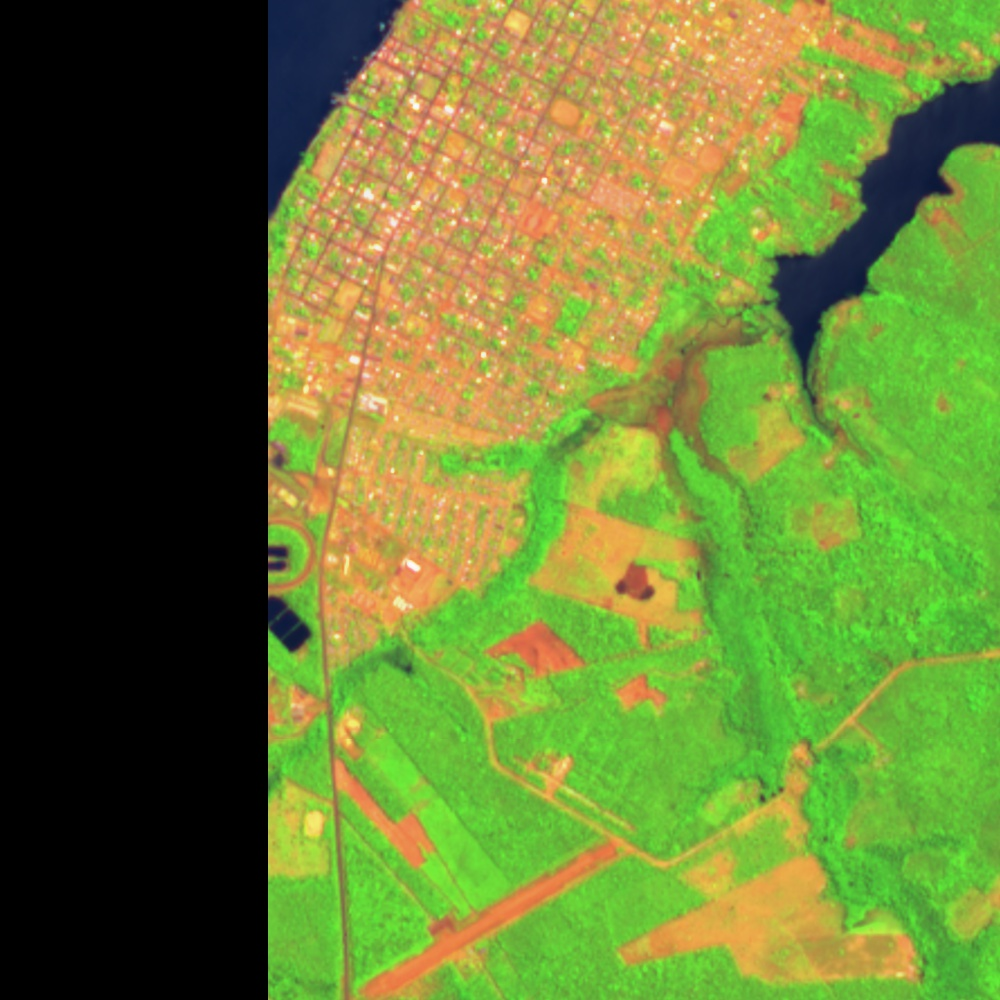legal: (761, 117, 1000, 453), (872, 40, 1000, 118), (266, 593, 313, 655), (265, 537, 296, 579)
